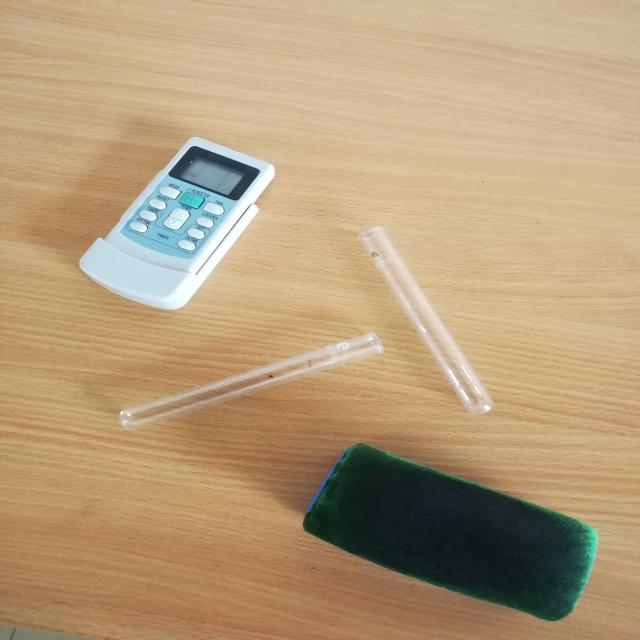Test_Tube: (52, 316, 396, 451), (351, 208, 516, 424)
